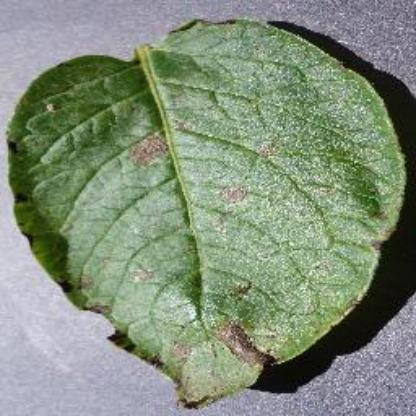Early-Blight: (7, 12, 415, 412)
